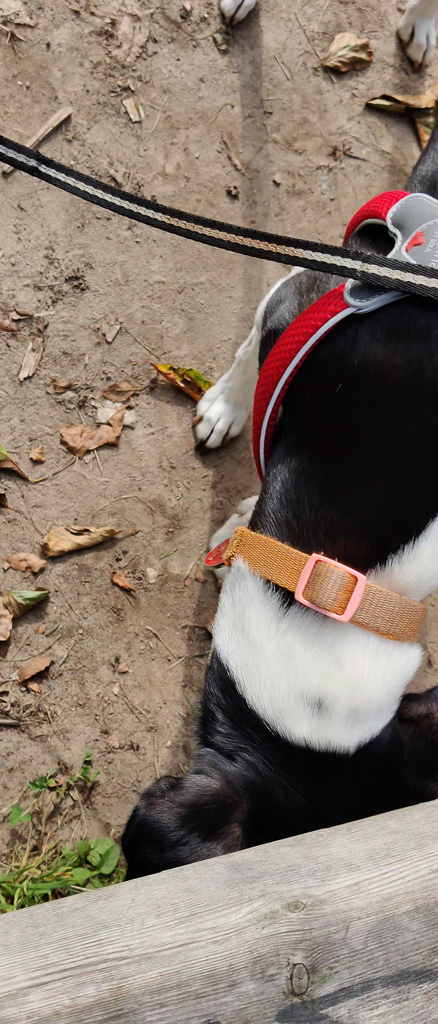Dog: (91, 138, 438, 901)
